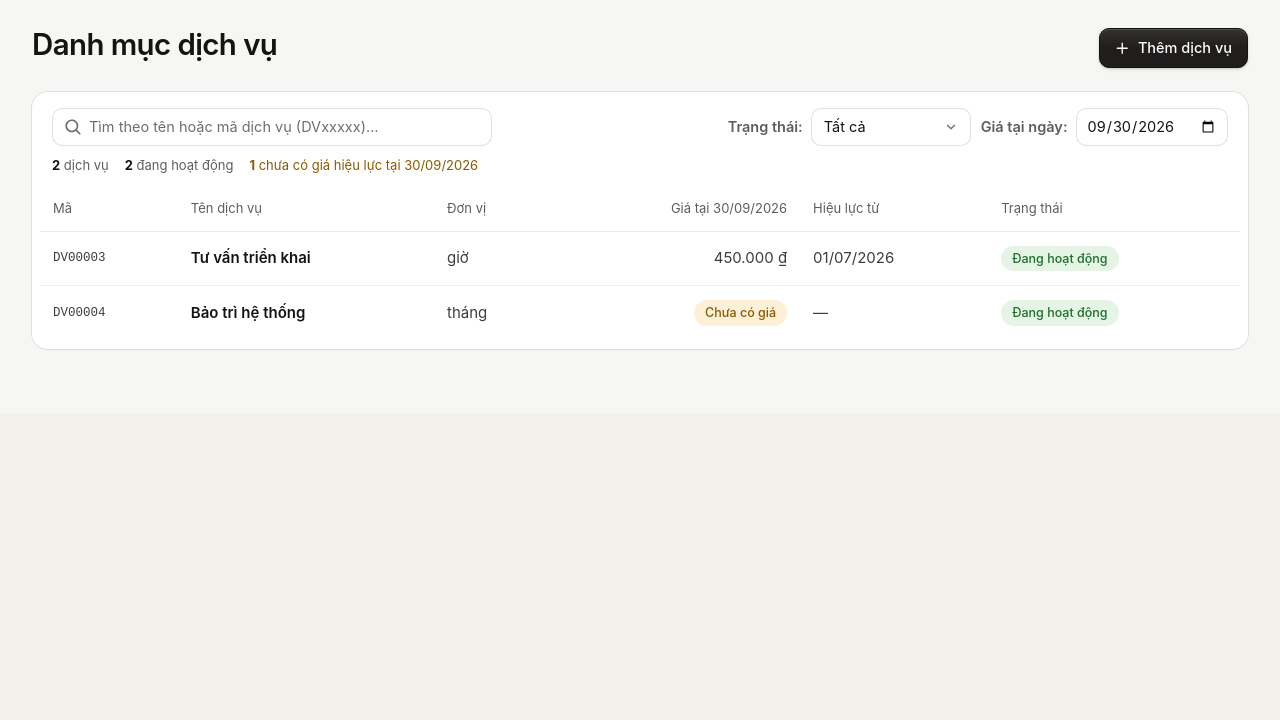
ServiceCatalogPage (NCL-15-CN-001) › TC-01: tạo dịch vụ mới kèm giá và ngày hiệu lực → gọi API, dịch vụ xuất hiện trong danh mục
The image size is (1280, 720).
Check: the row with test id "svc-row-3" is shown, box [40,232,1240,286]
Click the button with test id "svc-btn-create". click: (1174, 48)
box: [1099,28,1248,68]
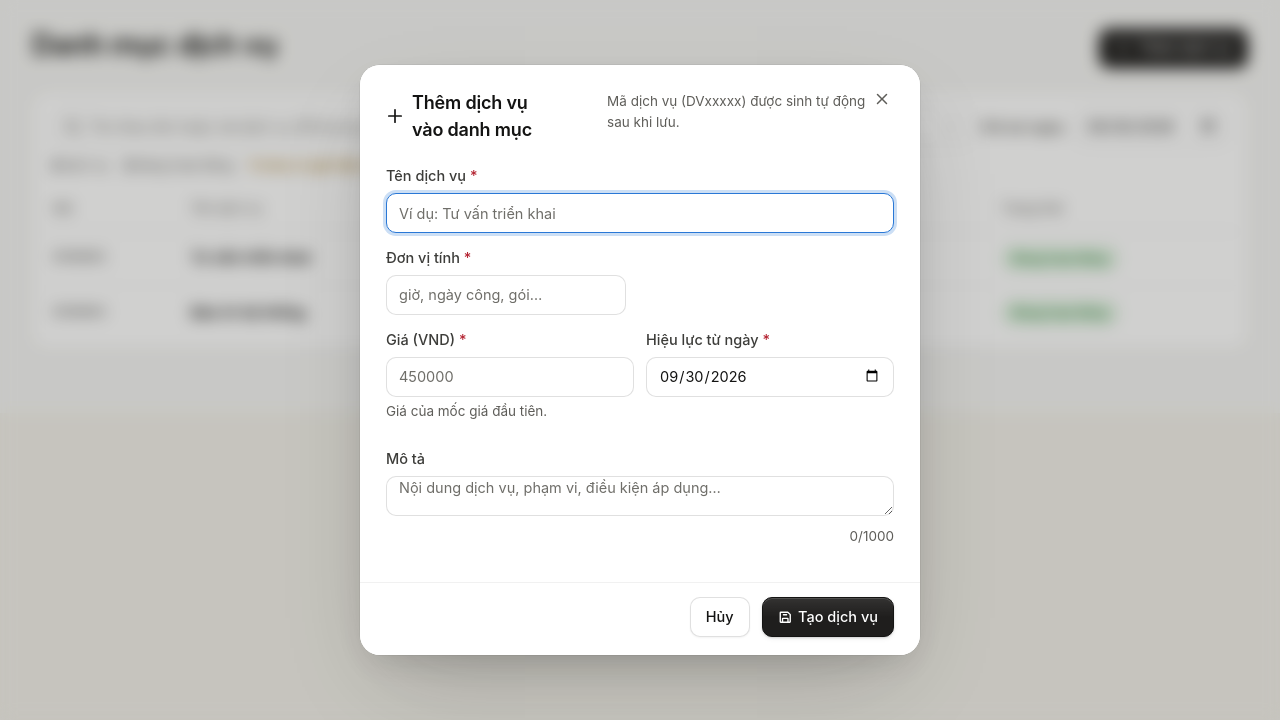
Type "  Đào tạo người dùng " into the field with test id "svc-input-name". click: (640, 213)
box: [386,193,894,233]
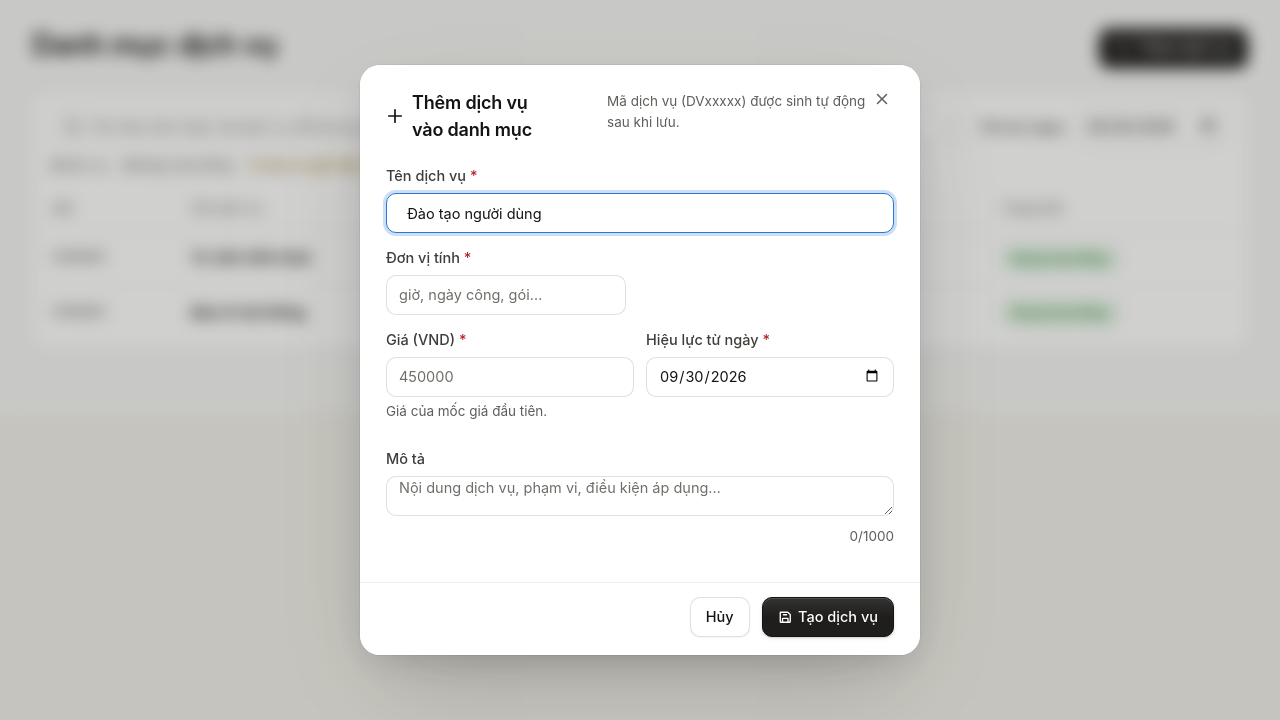
Type "buổi" into the field with test id "svc-input-unit". click: (506, 295)
box: [386,275,626,315]
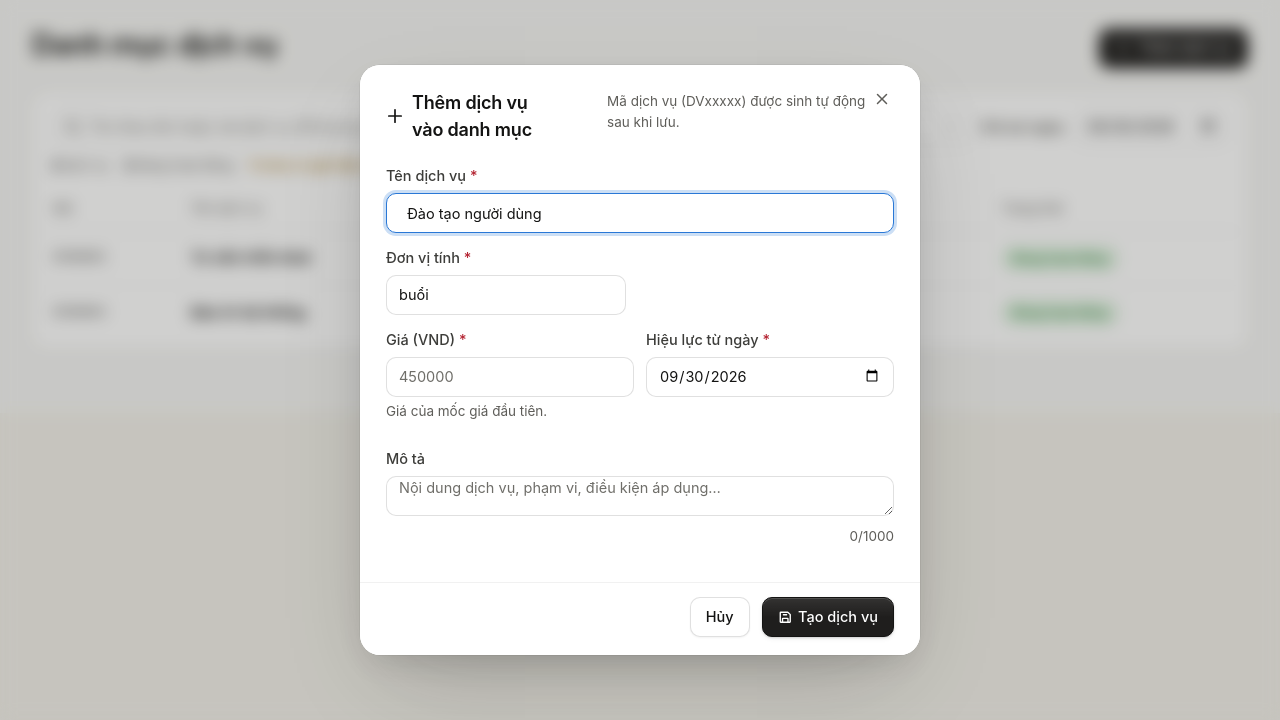
Type "3.000.000" into the field with test id "svc-input-price". click: (510, 377)
box: [386,357,634,397]
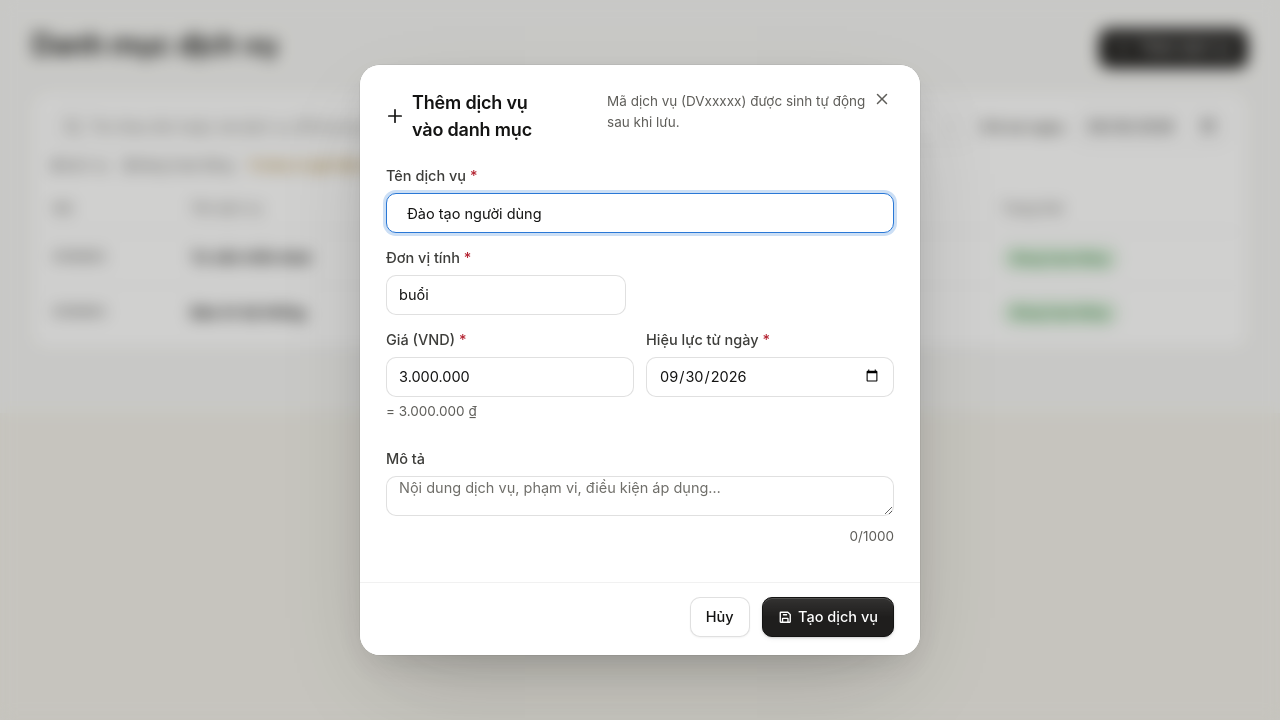
Check: the text with test id "svc-price-preview" shows "3.000.000", box [386,403,477,419]
Click the button with test id "svc-submit". click: (828, 617)
box: [762,597,894,637]
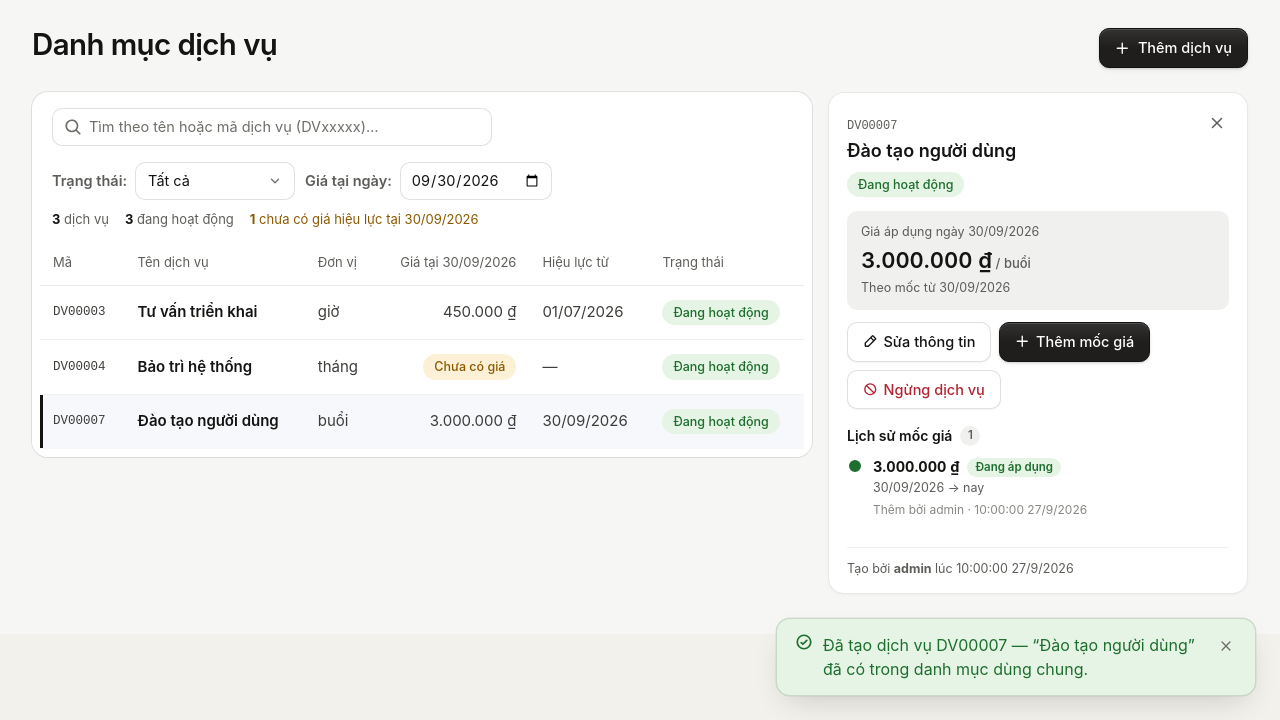
Check: the text "Đã tạo dịch vụ DV00007" is shown, box [823,635,1195,679]
Check: the row with test id "svc-row-7" is shown, box [40,395,804,449]
Check: the element with test id "svc-detail" shows "Đào tạo người dùng", box [847,140,1016,161]
